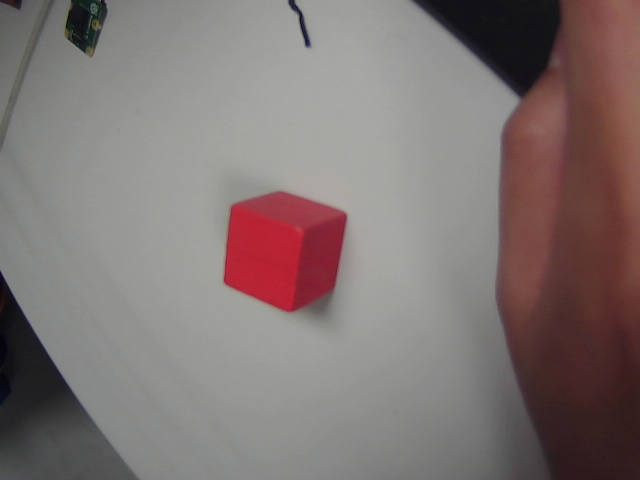redbox: (221, 183, 360, 317)
